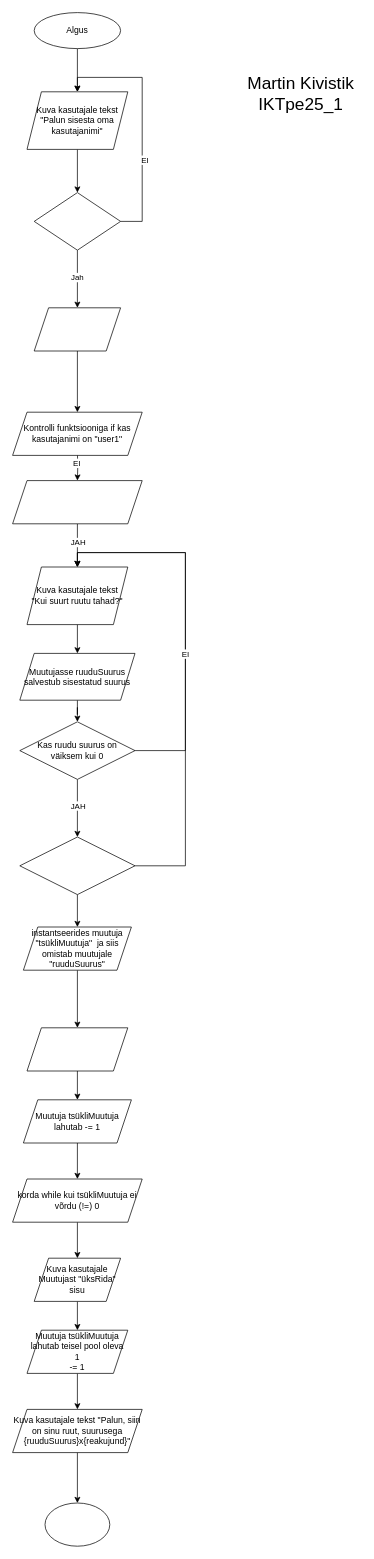
This 374x1559 diagram has some shape labels left out. The box of each missing label's shape, as (x1, y1, x2, y2) in pixels:
Kas kasutaja on sisestanud nime?: (33, 192, 121, 250)
Kas ruudu suurus on suurem kui 20?: (19, 836, 135, 895)
korda while nii kaua kuni tingimus on täidetud.: (12, 480, 142, 524)
Lõpp: (44, 1502, 110, 1546)
muutuja üksRida liidab otsa muutujale "_"+reakujund: (26, 1027, 128, 1071)
Salvesta muutujasse kasutajaNimi sisestatud nimi: (33, 307, 121, 351)
